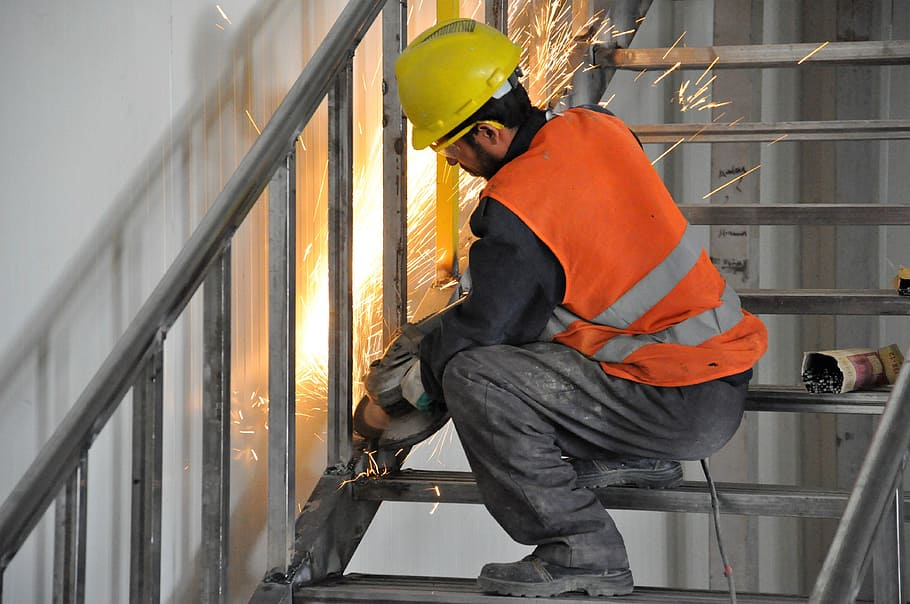Hard Hat: (392, 21, 534, 174)
Person: (392, 19, 764, 596)
Vest: (429, 75, 767, 388)
